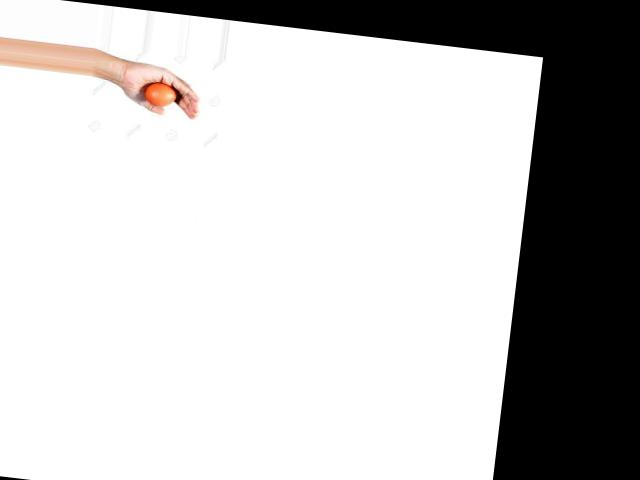egg: (144, 81, 176, 107)
